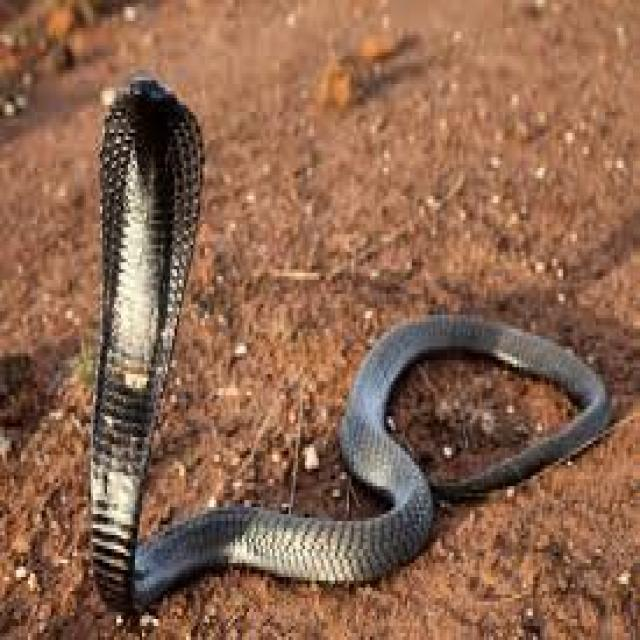Snake: (83, 71, 606, 618)
